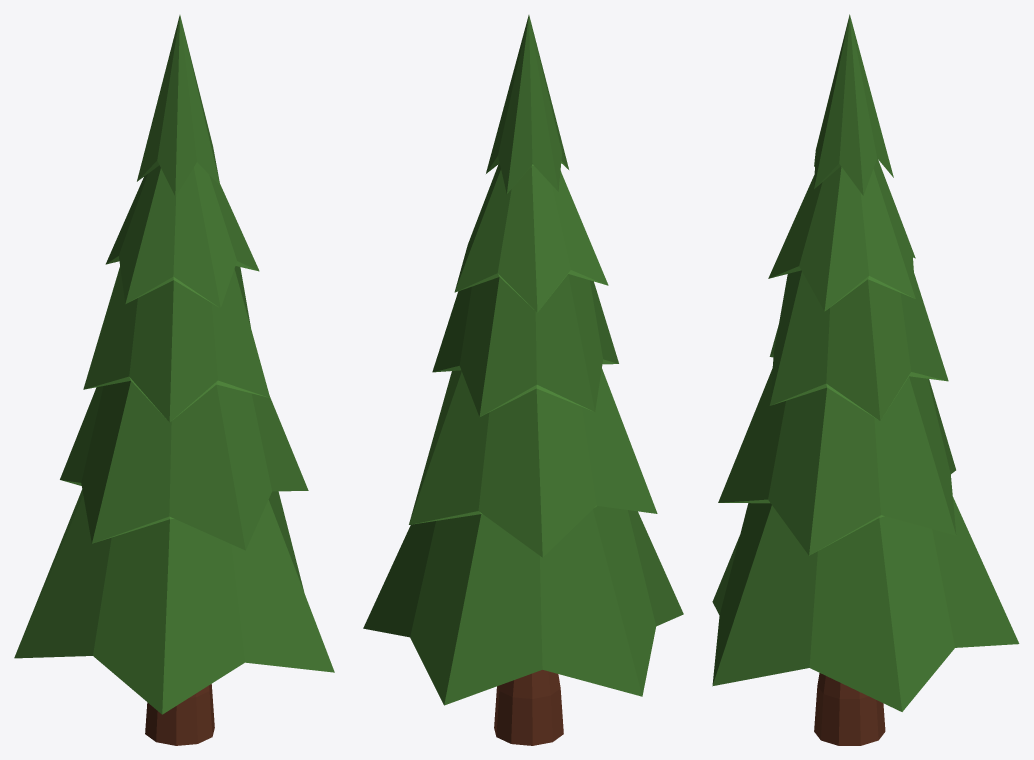
The model's file is PineTree.fbx.
3 renders of one model, left to right at view 1: azimuth 30°, elevation 25°; view 2: azimuth 150°, elevation 25°; view 3: azimuth 270°, elevation 25°, orthographic.
Parts seen in each view (by area): view 1: Cylinder; view 2: Cylinder; view 3: Cylinder.
Part boxes in pixels (left/top/right/bottom): Cylinder: left=14, top=15, right=334, bottom=745; Cylinder: left=363, top=15, right=683, bottom=745; Cylinder: left=712, top=14, right=1019, bottom=745.
Size of the model in its own units: 190 by 466 by 181.
